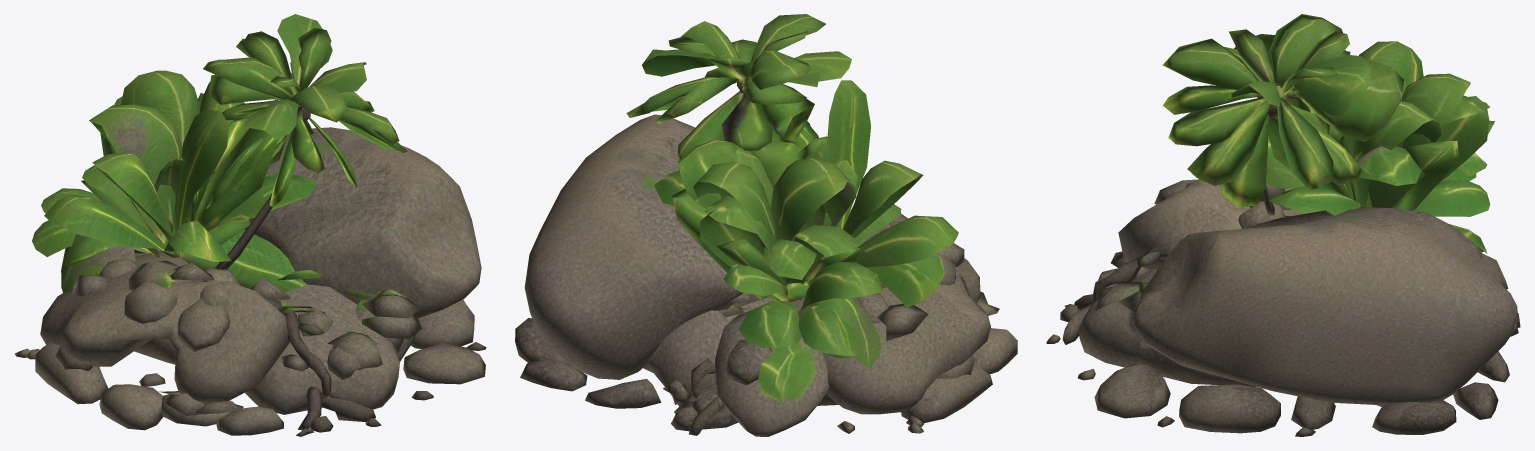
Rendered from meshy-bank.glb.
3 renders of one model, left to right at view 1: azimuth 30°, elevation 25°; view 2: azimuth 150°, elevation 25°; view 3: azimuth 270°, elevation 25°, orthographic. The views are drawn at different scales.
Size of the model in its own units: 1.36 by 1 by 1.35.
1 material, 1 textured.
